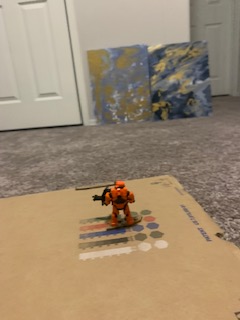soldier: (90, 178, 138, 229)
